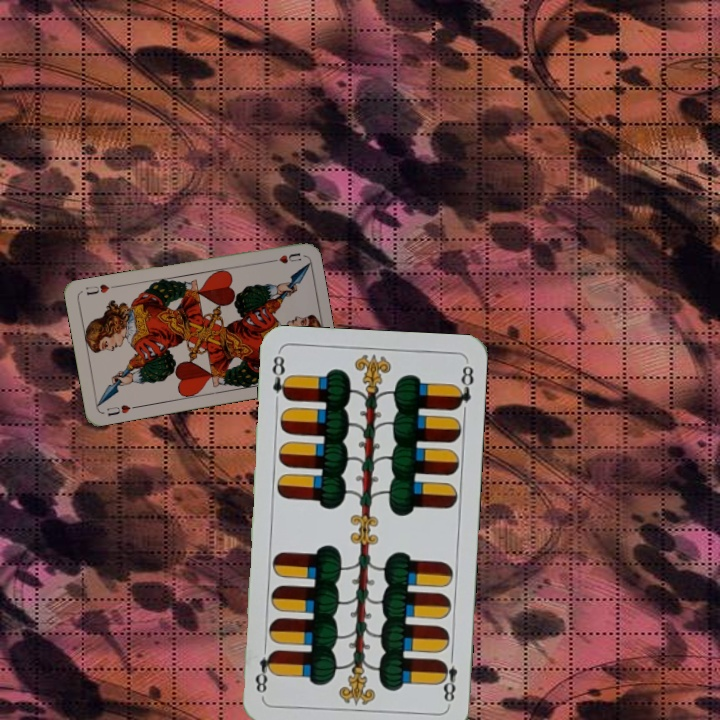E8: (436, 649, 460, 708), (268, 351, 292, 403)
HU: (102, 400, 140, 419), (264, 249, 303, 266)
